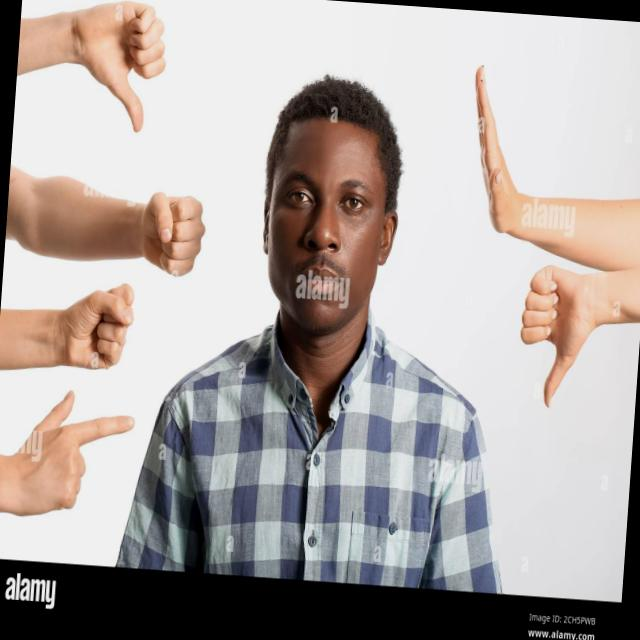Hand: (12, 383, 138, 528), (458, 52, 543, 242), (59, 0, 173, 139), (511, 258, 600, 417), (58, 278, 138, 373), (135, 182, 209, 281)
